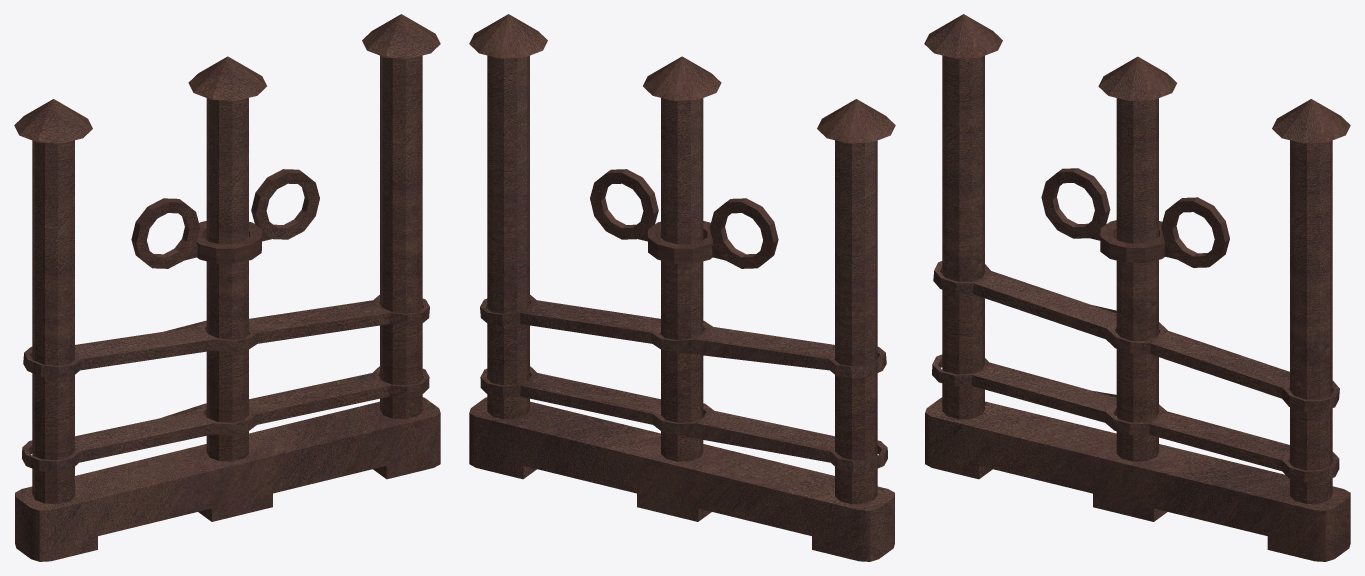
The model's file is Thumbscrew N.fbx.
3 views of the same model, side by side, from view 1: azimuth 30°, elevation 25°; view 2: azimuth 150°, elevation 25°; view 3: azimuth 330°, elevation 25° (orthographic).
Visible parts, largest first — view 1: Thumbscrew; view 2: Thumbscrew; view 3: Thumbscrew.
Part boxes in pixels (bbox=[...]): Thumbscrew: bbox=[14, 14, 440, 561]; Thumbscrew: bbox=[469, 14, 895, 561]; Thumbscrew: bbox=[924, 14, 1350, 561].
Size of the model in its own units: 21.22 by 21.8 by 3.33.
Materials: 1 (1 with a texture image).
